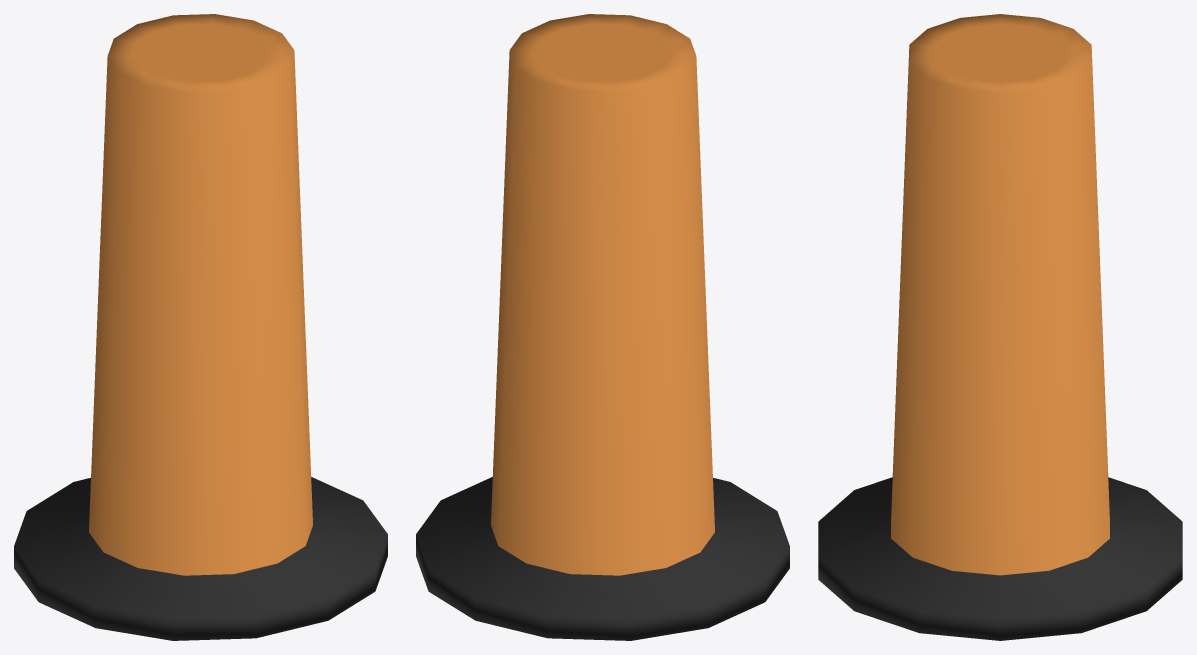
File: police_cone_a.glb
3 renders of one model, left to right at view 1: azimuth 30°, elevation 25°; view 2: azimuth 150°, elevation 25°; view 3: azimuth 270°, elevation 25°, orthographic.
Parts seen in each view (by area): view 1: body; view 2: body; view 3: body.
Boxes of the visible parts, x1=… form: body: x1=14, y1=14, x2=387, y2=640; body: x1=416, y1=14, x2=789, y2=640; body: x1=818, y1=14, x2=1182, y2=640.
Size of what is drawn, in the model's own units: 0.3 by 0.45 by 0.2925.
